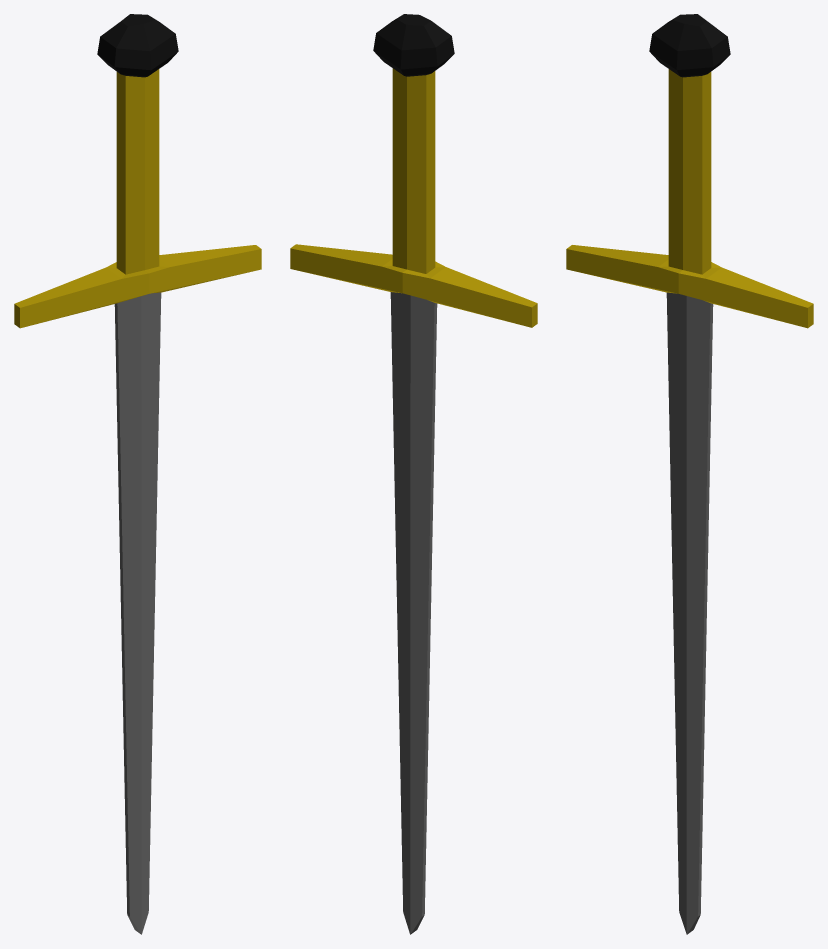
3 views of the same model, side by side, from view 1: azimuth 30°, elevation 25°; view 2: azimuth 150°, elevation 25°; view 3: azimuth 330°, elevation 25° (orthographic).
Parts seen in each view (by area): view 1: DefaultFight; view 2: DefaultFight; view 3: DefaultFight.
Part boxes in pixels (x1,y1,x2,y2): DefaultFight: [14, 14, 261, 934]; DefaultFight: [290, 14, 537, 934]; DefaultFight: [566, 14, 813, 934].
Size of the model in its own units: 0.5947 by 2.15 by 0.1136.
Materials: 1 (1 with a texture image).
